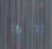No waiting: (3, 3, 49, 48)
